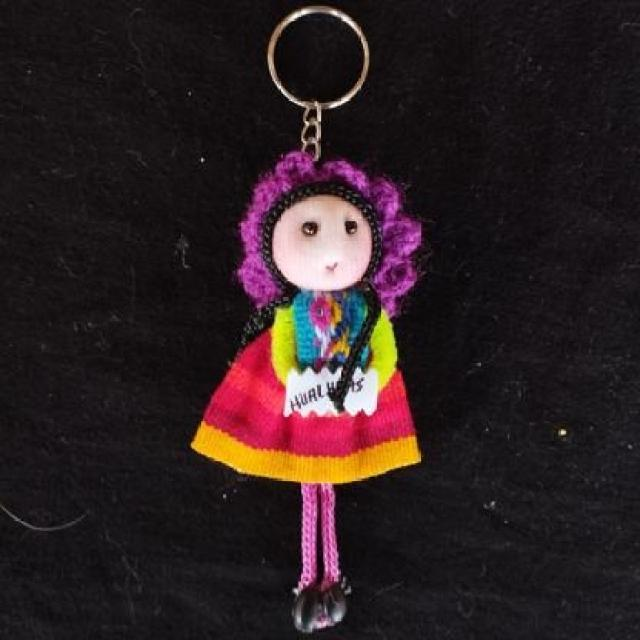Llavero: (189, 148, 426, 634)
